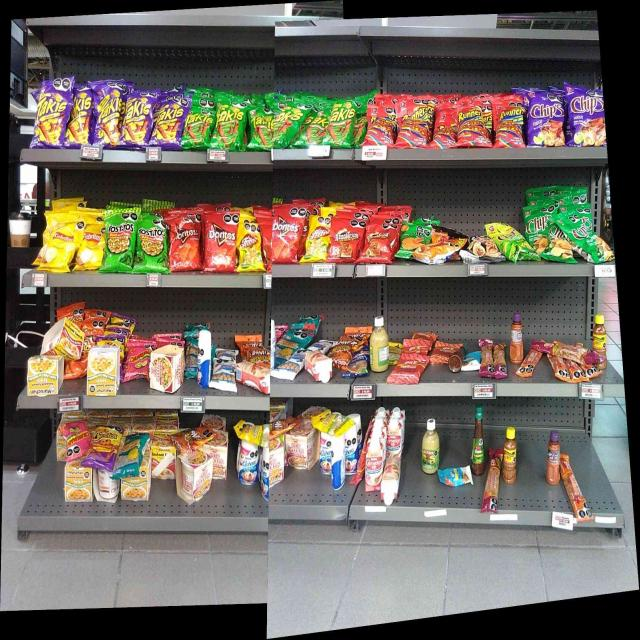bitzAlmendras: (440, 466, 470, 484), (464, 352, 480, 369)
bitzEnchilado95: (564, 456, 578, 519), (552, 362, 600, 380), (524, 351, 538, 376)
bitzHabanero: (486, 450, 503, 510), (541, 343, 588, 357), (481, 340, 494, 376), (494, 344, 506, 376)
bokadosCacahuates: (349, 355, 368, 374)
botaneraChilito: (504, 426, 516, 481), (594, 314, 606, 352)
cheetosFlaminHot: (93, 426, 117, 468)
chipsFuego: (570, 94, 606, 146), (528, 95, 565, 145)
chipsJalapeno: (549, 224, 570, 262), (524, 209, 548, 242), (571, 220, 595, 251)
chipsPapatinas: (498, 225, 524, 258)
churrumais: (127, 343, 150, 379), (67, 423, 89, 453)
delPrimoSalsa: (369, 316, 388, 369), (422, 418, 440, 468)
doritosNacho: (206, 215, 236, 271), (272, 207, 299, 261), (172, 219, 199, 267)
fritosLimon: (238, 227, 260, 271), (310, 219, 328, 262)
leoCacahuates: (212, 357, 236, 391), (287, 351, 304, 378)
leoMix: (168, 430, 215, 450), (394, 357, 424, 383), (334, 336, 363, 353), (246, 348, 272, 362), (430, 342, 457, 353)
maruchanPollo: (87, 347, 120, 395), (28, 355, 63, 395), (65, 463, 92, 502), (122, 479, 148, 502)
maruchanRes: (42, 318, 84, 354), (151, 450, 175, 479)
nestleCarnation: (237, 363, 270, 392), (365, 440, 382, 489), (384, 458, 401, 504), (305, 353, 333, 379)
nestleLechera: (239, 446, 258, 484), (197, 333, 210, 387), (344, 431, 358, 471), (260, 447, 269, 501), (321, 431, 332, 475)
nissinRes: (177, 456, 213, 504), (151, 348, 184, 391), (287, 420, 311, 468), (270, 443, 284, 487)
popKarameladas: (469, 237, 498, 260)
rancheritos: (331, 223, 363, 260), (366, 224, 390, 261)
rufflesQueso: (402, 223, 428, 246)
runners: (367, 107, 397, 146), (496, 107, 524, 146), (458, 109, 485, 148), (399, 117, 430, 148), (434, 107, 457, 148)
sabritasOriginal: (48, 222, 77, 270), (82, 223, 101, 268)
salsaBufalo: (472, 403, 485, 473)
semillasCalabaza: (238, 421, 269, 446), (313, 413, 351, 430)
semillasGirasol: (119, 436, 145, 476), (276, 332, 312, 350), (185, 333, 196, 378)
tajinDulce: (546, 428, 560, 484), (510, 313, 523, 362)
takisFuego: (36, 80, 68, 145), (95, 83, 122, 147), (125, 94, 153, 147), (69, 89, 94, 147), (155, 98, 183, 147)
takisOriginal: (216, 105, 244, 149), (330, 103, 356, 148), (185, 106, 213, 147), (248, 109, 272, 150), (274, 109, 304, 137), (305, 115, 328, 145)
tostitos: (108, 214, 136, 270), (137, 221, 166, 272)
